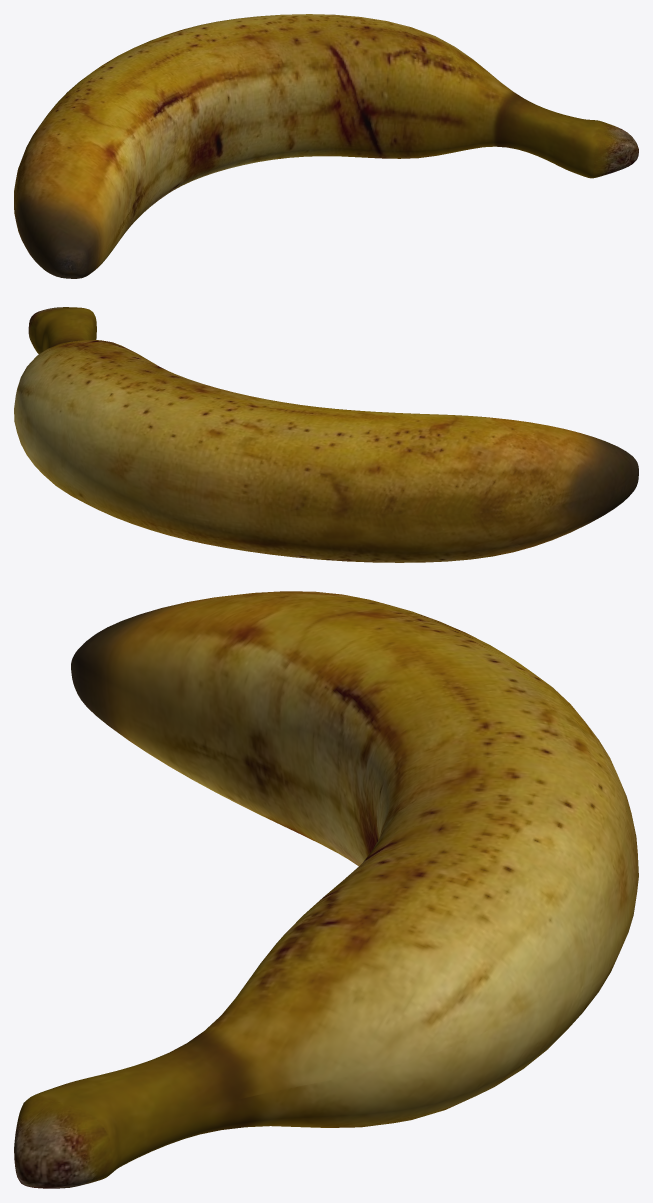
The model's file is brown_banana.fbx.
3 renders of one model, top to bottom at view 1: azimuth 30°, elevation 25°; view 2: azimuth 150°, elevation 25°; view 3: azimuth 270°, elevation 25°, orthographic. The views are drawn at different scales.
Parts seen in each view (by area): view 1: BrownBananaExocarp; view 2: BrownBananaExocarp; view 3: BrownBananaExocarp.
Part boxes in pixels (<box>): BrownBananaExocarp: <box>14,14,638,278</box>; BrownBananaExocarp: <box>14,307,638,562</box>; BrownBananaExocarp: <box>14,591,638,1188</box>.
Size of what is drawn, in the model's own units: 20.23 by 10.61 by 4.33.
